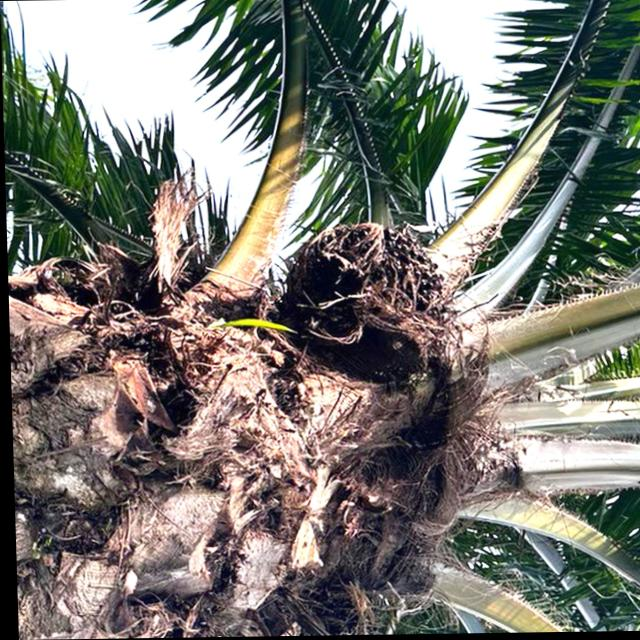unripe: (280, 211, 464, 393)
